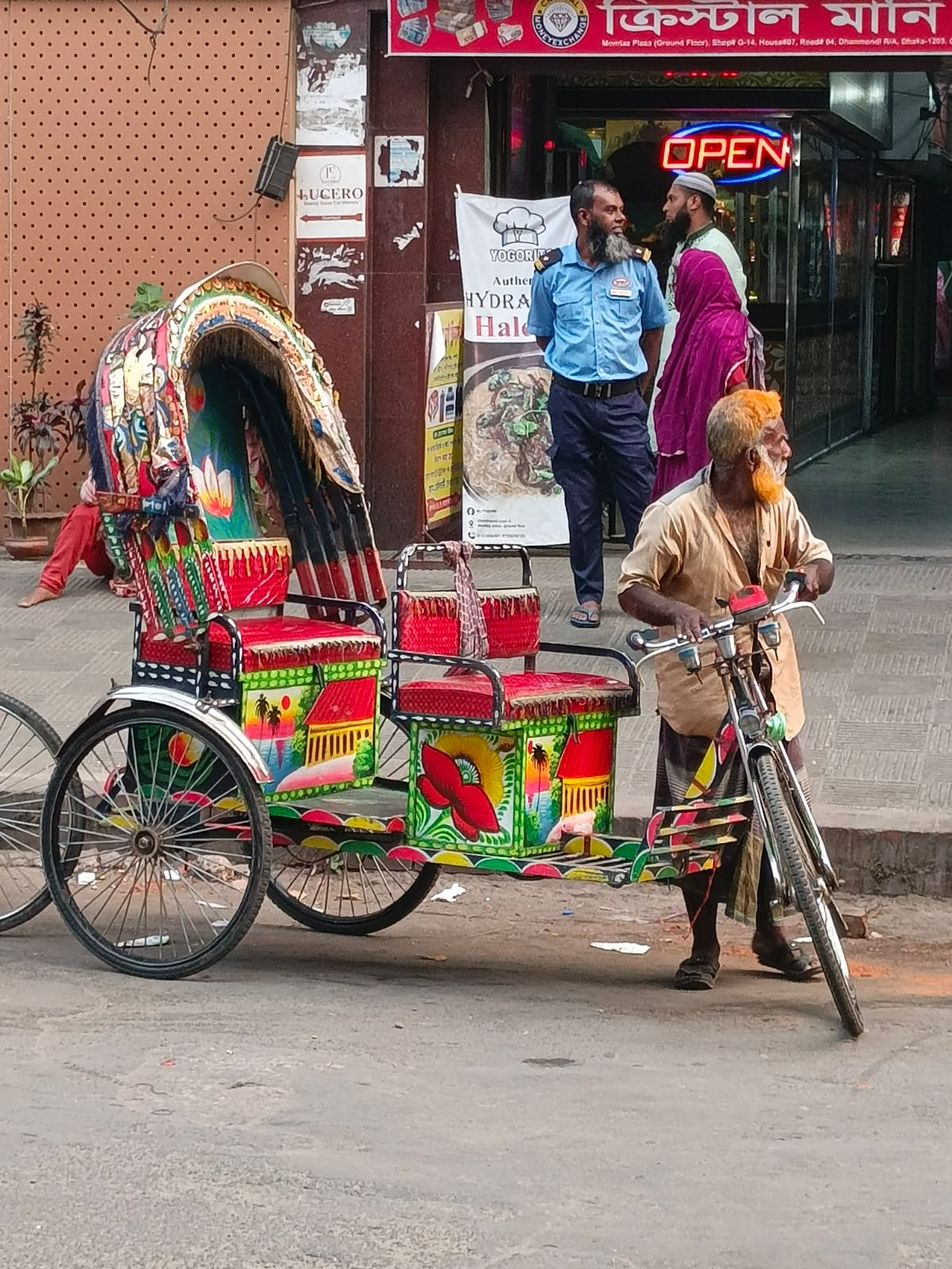auto-ricksaw: (44, 271, 881, 1039)
